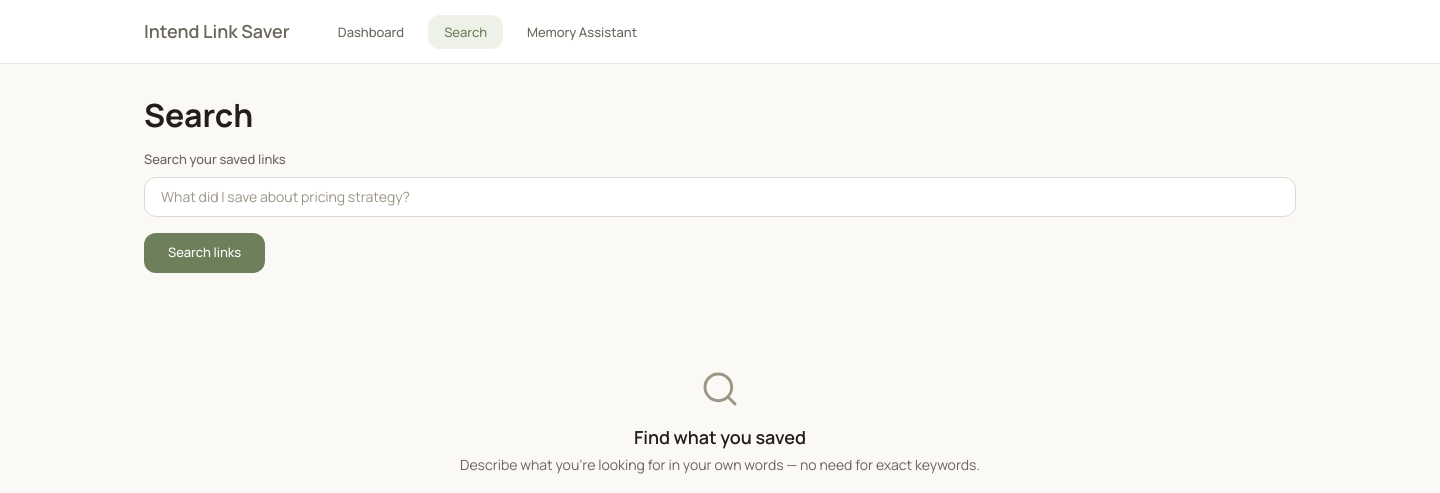
it: SearchPage › shows an error state when the search fails
Type "pricing" into the field labelled "Search your saved links" at [720, 197], box x1=144 y1=177 x2=1296 y2=217
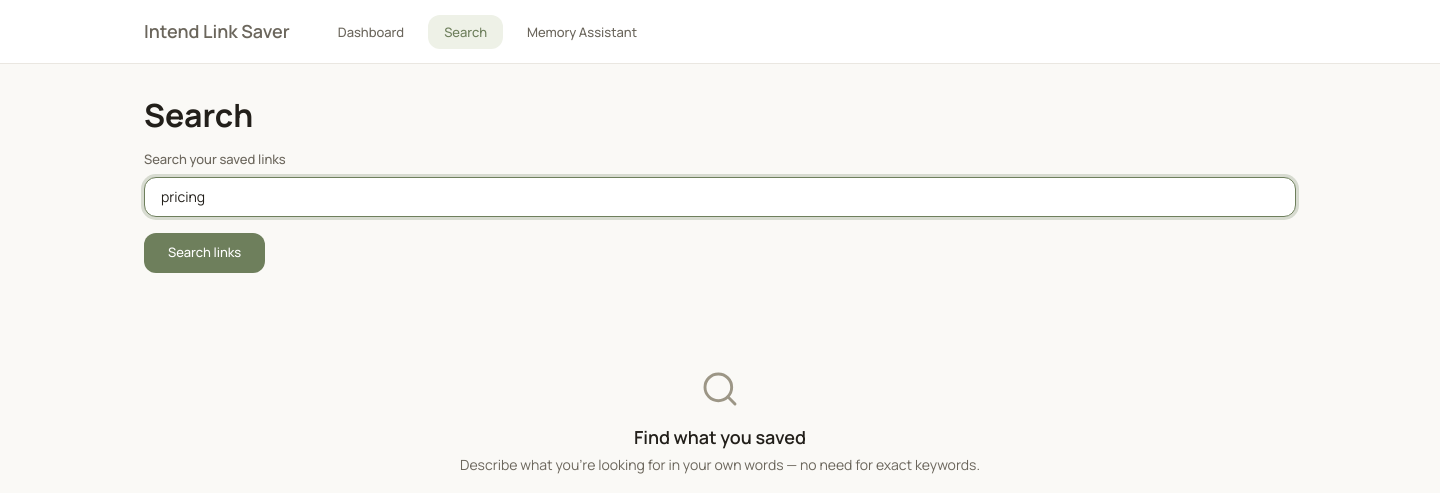
Click the button "Search links" at [205, 253], box x1=144 y1=233 x2=265 y2=273
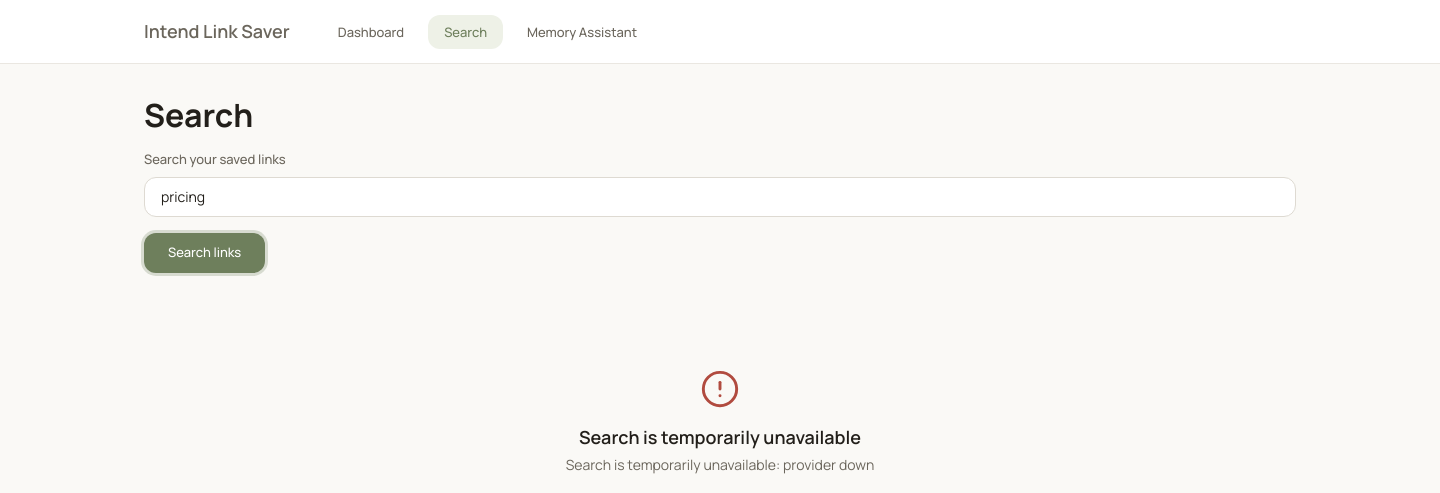
Expected: the heading "Search is temporarily unavailable" is shown, x1=579 y1=425 x2=861 y2=450
Expected: the text "Search is temporarily unavailable: provider down" is shown, x1=566 y1=454 x2=874 y2=476
